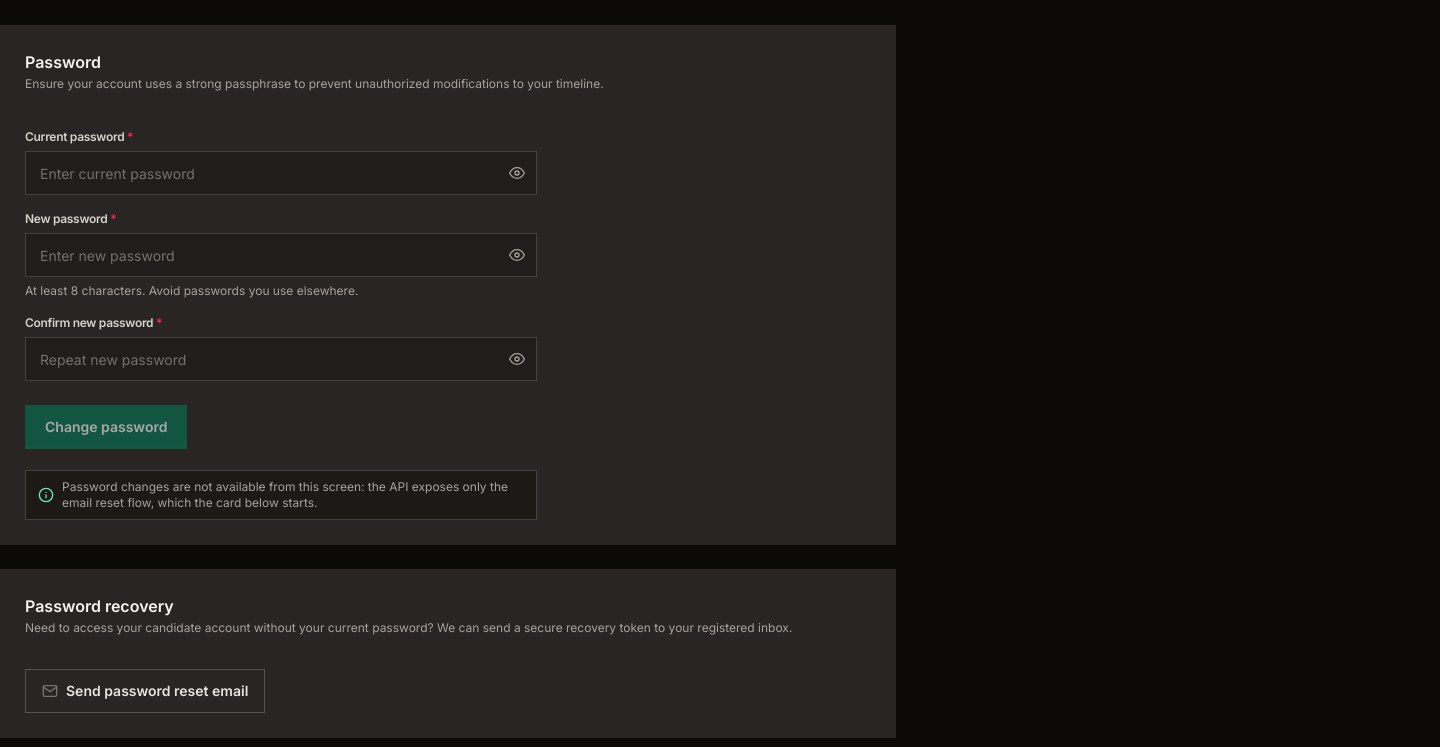
Test: SettingsSecurityPage (9.5 Task 6) › sends the password reset to the sign-in email when asked
The width and height of the screenshot is (1440, 747).
Click the button with test id "request-reset" at (145,691), box [25,669,265,713]
(page scrolled)
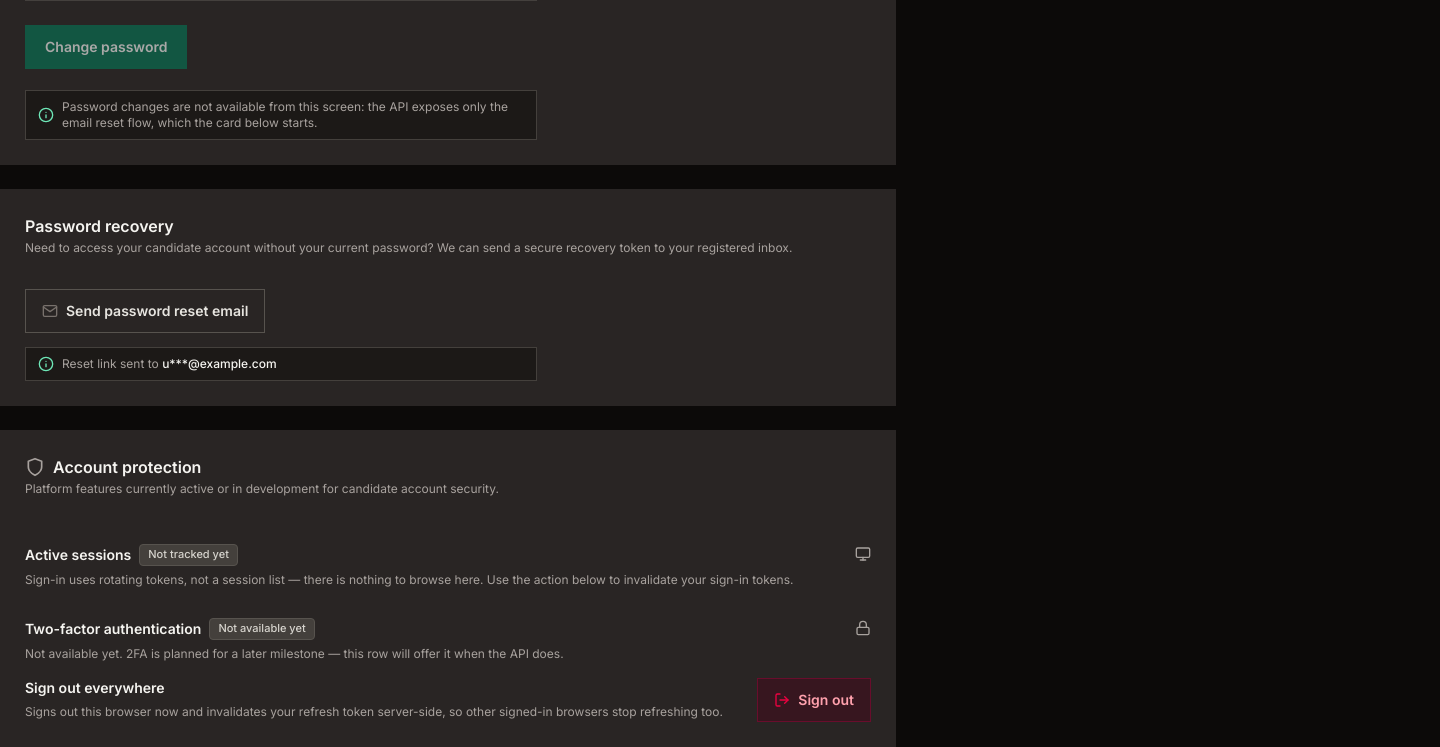
Now the message "Reset link sent to u***@example.com" is shown, box [25,347,537,381]
